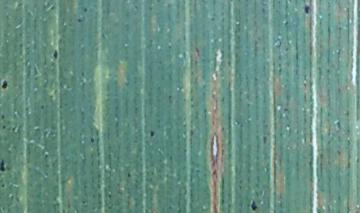tarspot: (50, 44, 60, 65), (300, 1, 313, 17), (249, 196, 260, 213), (1, 76, 10, 93), (261, 132, 270, 148), (148, 127, 157, 141), (1, 156, 8, 174), (126, 169, 134, 181), (81, 5, 91, 14), (75, 16, 84, 25), (189, 128, 196, 139), (90, 135, 96, 147), (1, 180, 8, 190), (1, 123, 8, 133), (283, 106, 290, 114), (1, 113, 7, 122)
